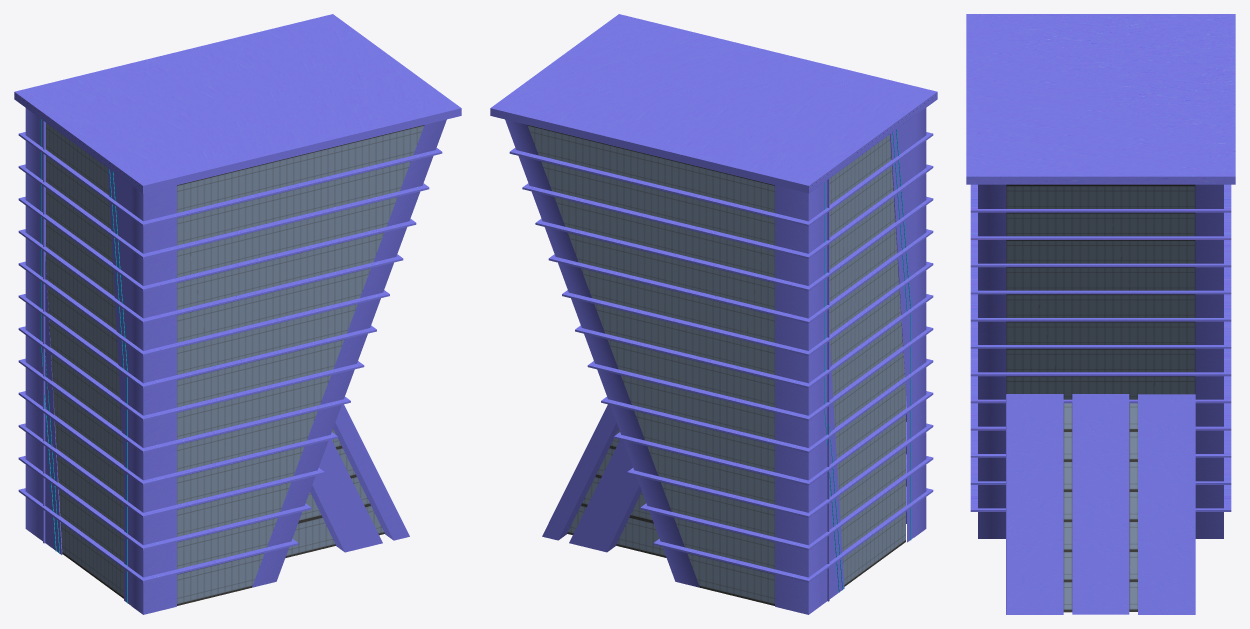
Rendered from Building_003_2st_L3.fbx.
3 views of the same model, side by side, from view 1: azimuth 30°, elevation 25°; view 2: azimuth 150°, elevation 25°; view 3: azimuth 270°, elevation 25° (orthographic). The views are drawn at different scales.
Parts seen in each view (by area): view 1: Building_003_2st_L3; view 2: Building_003_2st_L3; view 3: Building_003_2st_L3.
Part boxes in pixels (x1=…): Building_003_2st_L3: x1=14, y1=14, x2=461, y2=614; Building_003_2st_L3: x1=490, y1=14, x2=937, y2=614; Building_003_2st_L3: x1=966, y1=14, x2=1235, y2=614.
Size of the model in its own units: 49.84 by 65.34 by 34.87.
4 materials, 3 textured.
